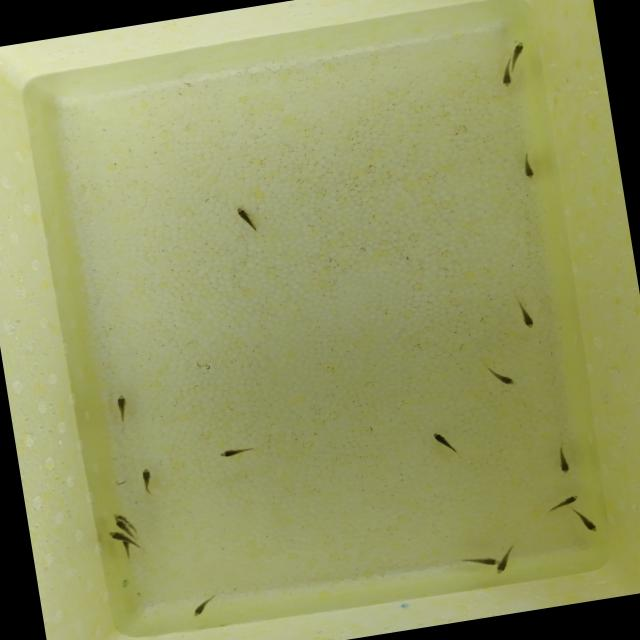fingerling: (514, 294, 539, 338), (547, 444, 577, 480), (488, 550, 522, 577), (226, 200, 256, 228), (483, 364, 518, 388), (109, 389, 133, 422), (492, 66, 520, 92), (466, 550, 502, 569), (576, 509, 600, 536), (190, 594, 213, 622), (505, 39, 533, 61), (550, 492, 584, 510), (430, 426, 450, 453), (520, 150, 536, 182), (214, 444, 246, 460), (140, 466, 154, 489), (109, 530, 129, 544), (114, 518, 130, 532)
